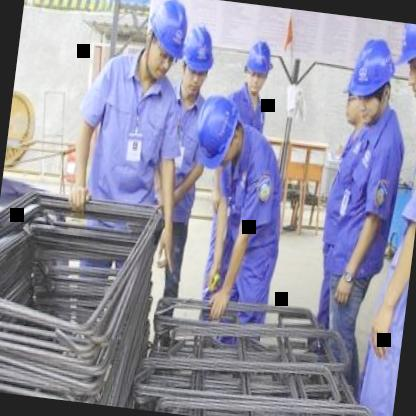helmet: (339, 26, 399, 128), (186, 95, 250, 172), (141, 0, 193, 78), (176, 15, 219, 102), (240, 32, 275, 98), (391, 22, 416, 103)
